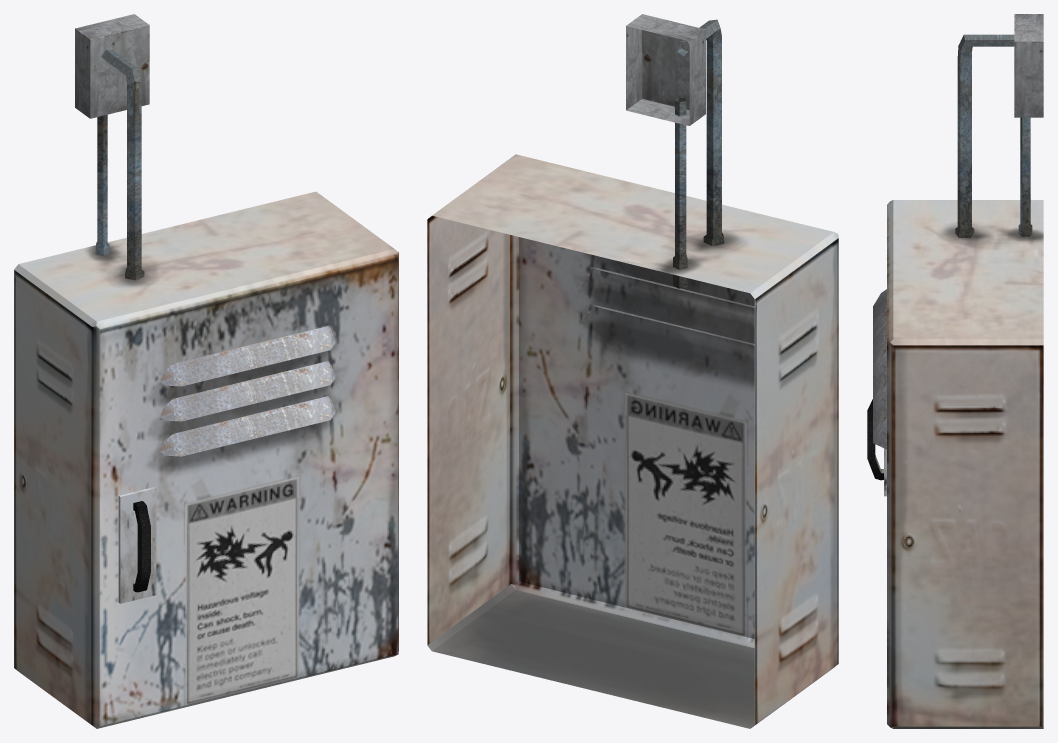
File: SurroundingEnvironment_Fusebox.fbx
The picture shows the model from 3 angles, left to right: view 1: azimuth 30°, elevation 25°; view 2: azimuth 150°, elevation 25°; view 3: azimuth 270°, elevation 25°; orthographic projection. The views are drawn at different scales.
Visible parts, largest first — view 1: Fusebox; view 2: Fusebox; view 3: Fusebox.
Boxes of the visible parts, x1,y1,x2,y2 form: Fusebox: (14,14,398,728); Fusebox: (427,14,838,728); Fusebox: (867,14,1043,728).
Bounding box in the file's own units: 0.9759 × 1.92 × 0.5082.
